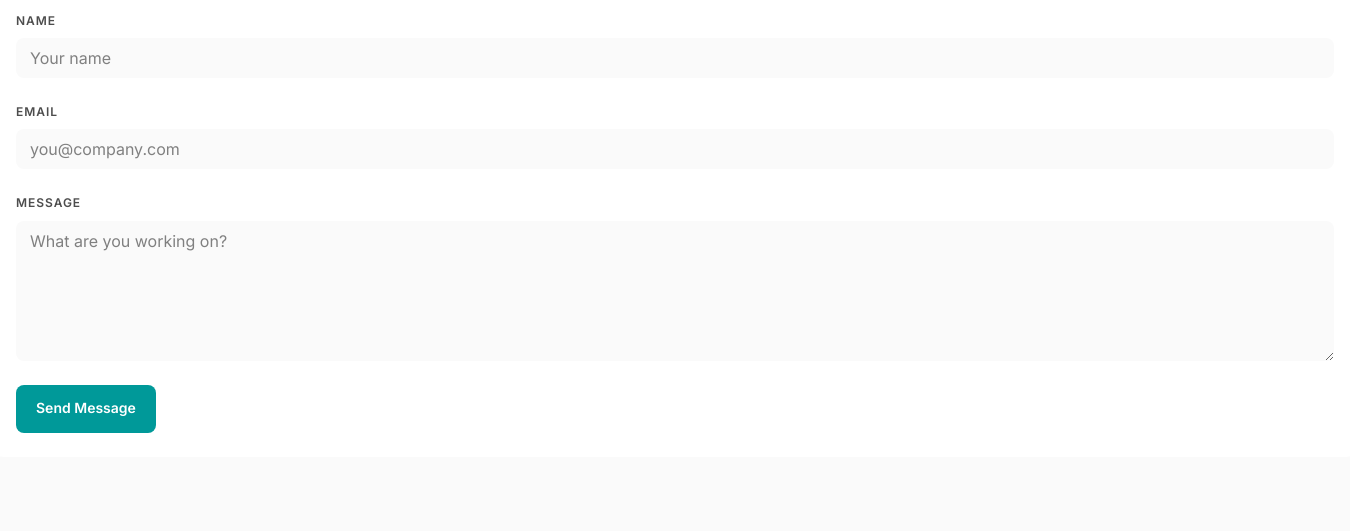
it: ContactForm - SPEC-021 acceptance criteria › AC4: empty submit shows name error
Step 1. Click the button "Send Message" → (86, 409), box top-left (16, 385), bottom-right (156, 433)
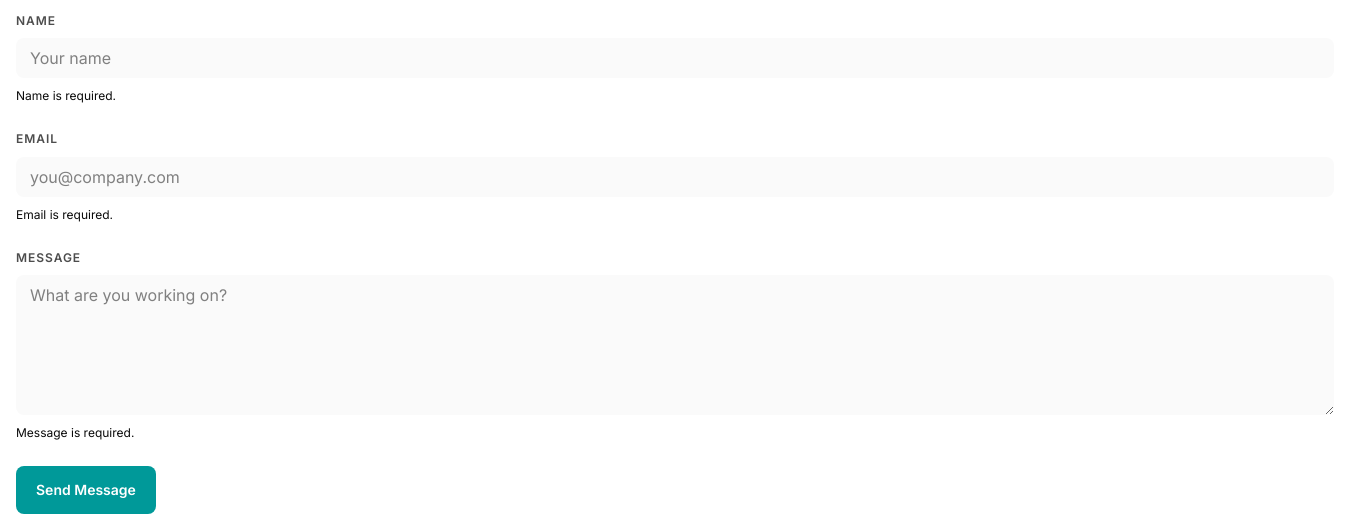
Now the text "Name is required." is shown, box top-left (16, 88), bottom-right (116, 103)
